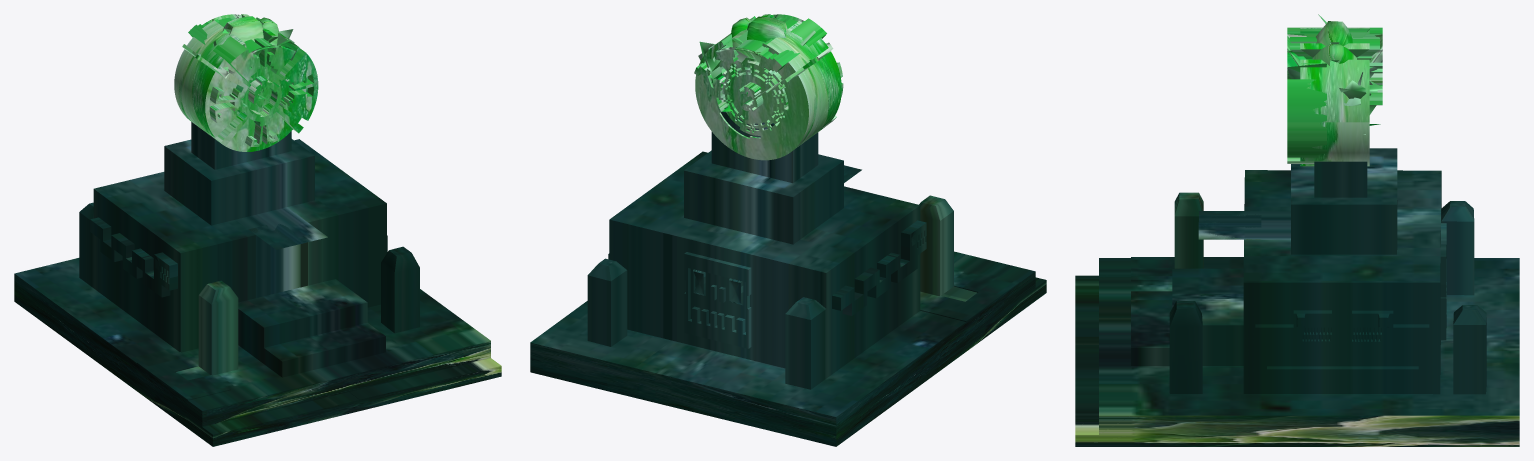
File: Piramide 3.0.fbx
3 views of the same model, side by side, from view 1: azimuth 30°, elevation 25°; view 2: azimuth 150°, elevation 25°; view 3: azimuth 270°, elevation 25° (orthographic). The views are drawn at different scales.
Parts seen in each view (by area): view 1: Piramide; view 2: Piramide; view 3: Piramide.
Part boxes in pixels (left/top/right/bottom): Piramide: left=14, top=14, right=501, bottom=446; Piramide: left=530, top=14, right=1046, bottom=446; Piramide: left=1075, top=14, right=1519, bottom=446.
Size of the model in its own units: 10.75 by 10.87 by 12.81.
2 materials, 2 textured.
